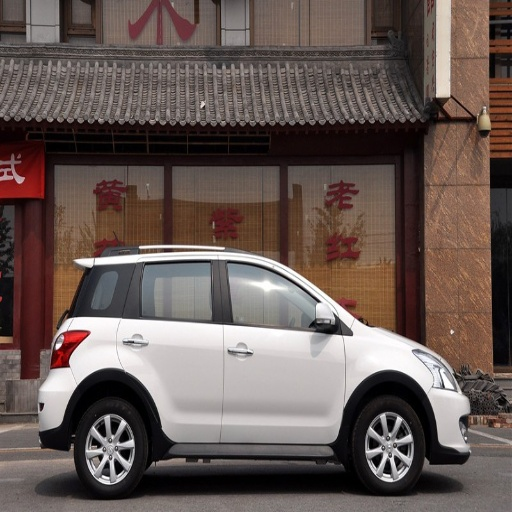back_right_door: (117, 255, 220, 440)
front_right_door: (221, 256, 345, 440)
